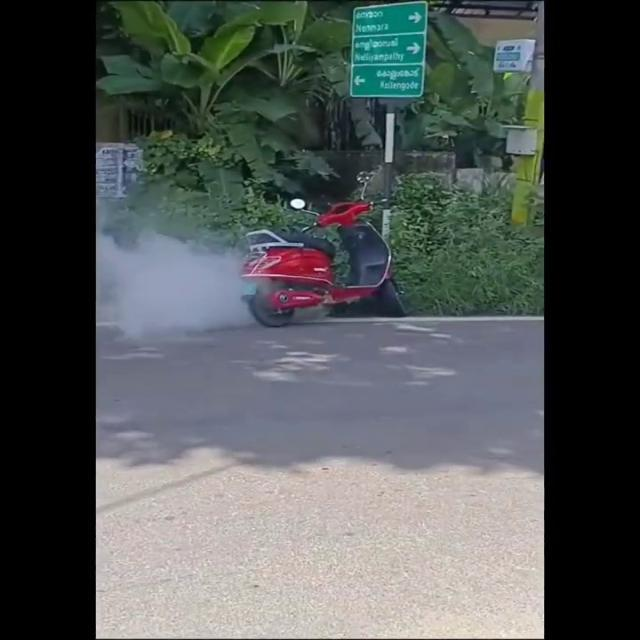Smoke: (96, 180, 263, 348)
